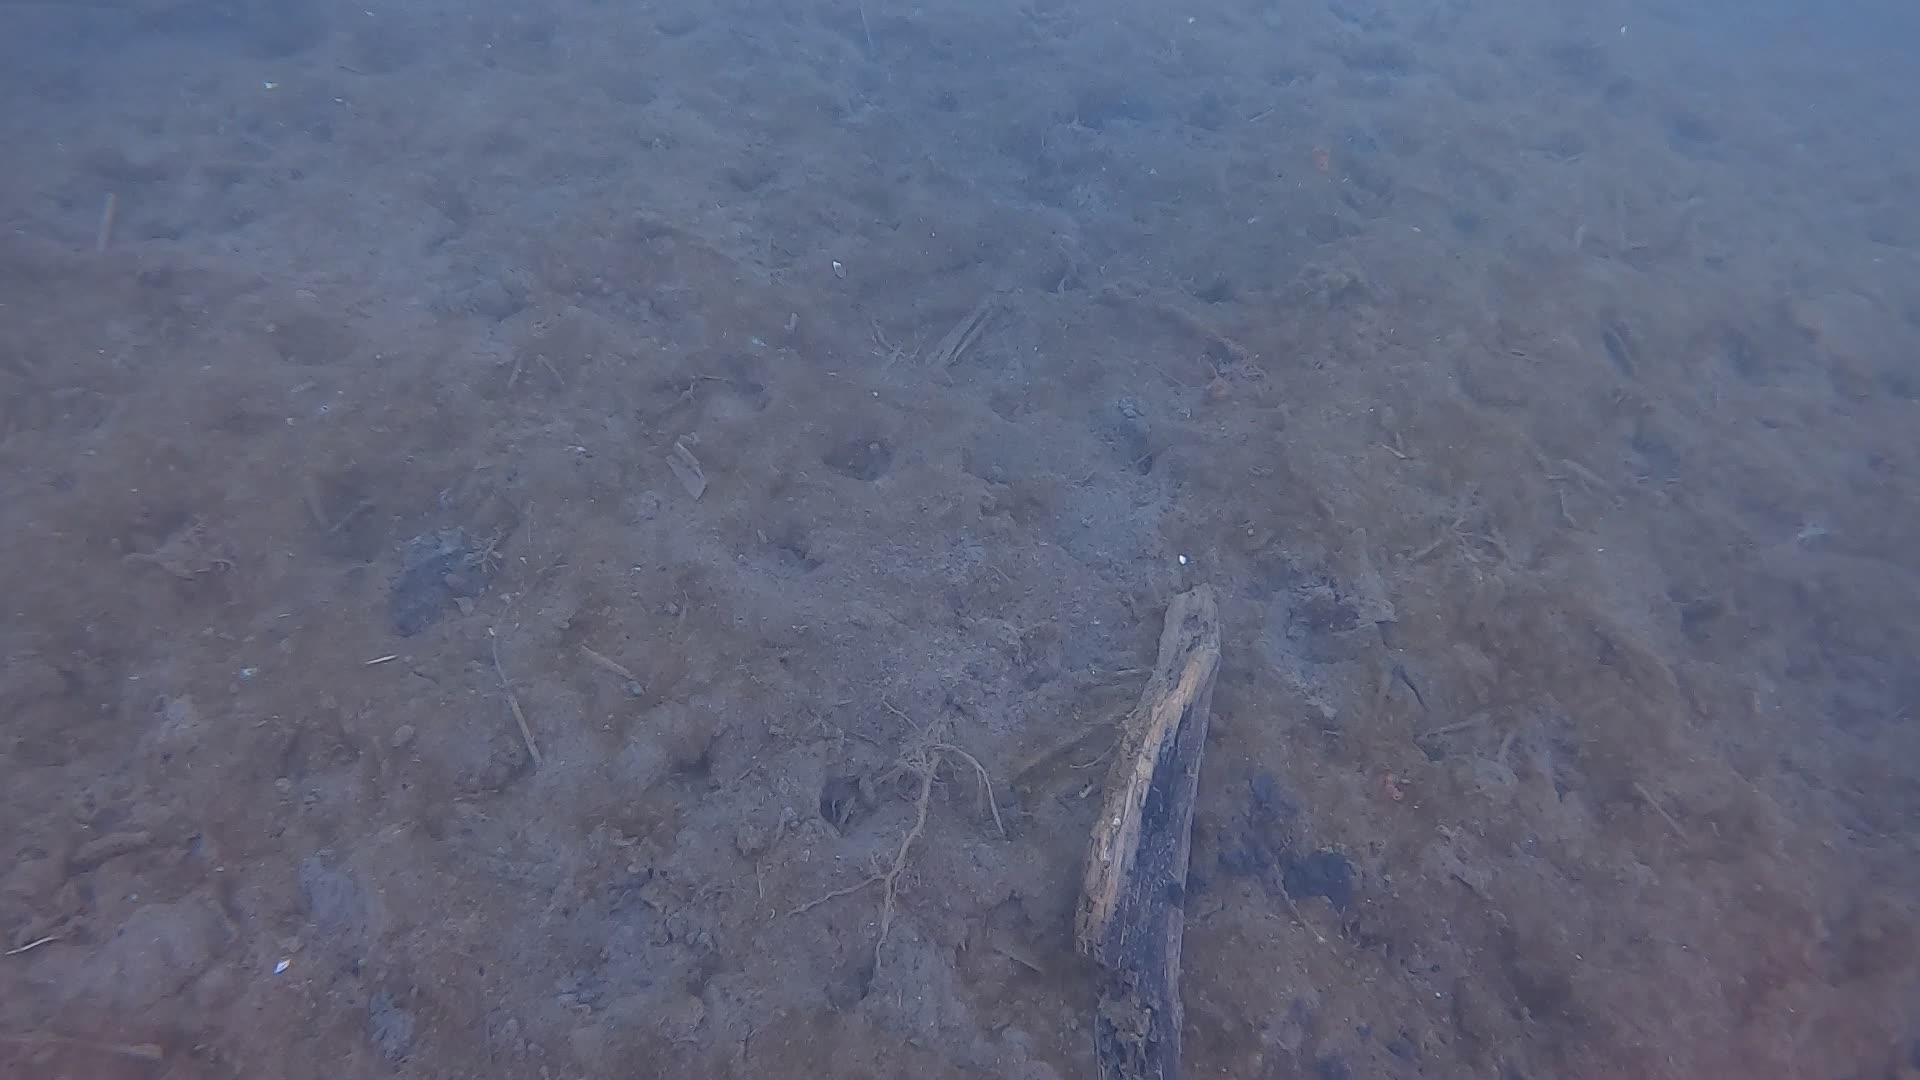wood: (1068, 582, 1216, 1080)
